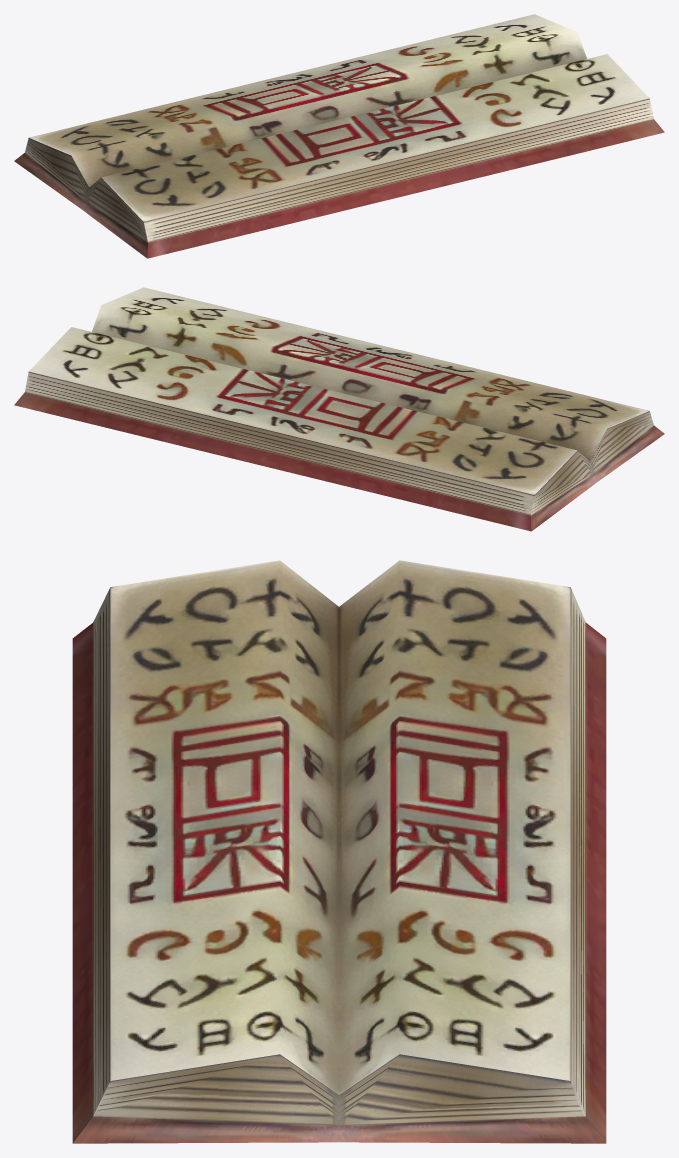
File: booklargeopen03.obj
3 renders of one model, top to bottom at view 1: azimuth 30°, elevation 25°; view 2: azimuth 150°, elevation 25°; view 3: azimuth 270°, elevation 25°, orthographic. The views are drawn at different scales.
Parts seen in each view (by area): view 1: booklargeopen03; view 2: booklargeopen03; view 3: booklargeopen03.
Boxes of the visible parts, x1,y1,x2,y2 form: booklargeopen03: [14, 14, 664, 258]; booklargeopen03: [14, 287, 664, 531]; booklargeopen03: [72, 560, 606, 1143].
Bounding box in the file's own units: 1.67 × 0.1292 × 0.7457.
Materials: 1 (1 with a texture image).
